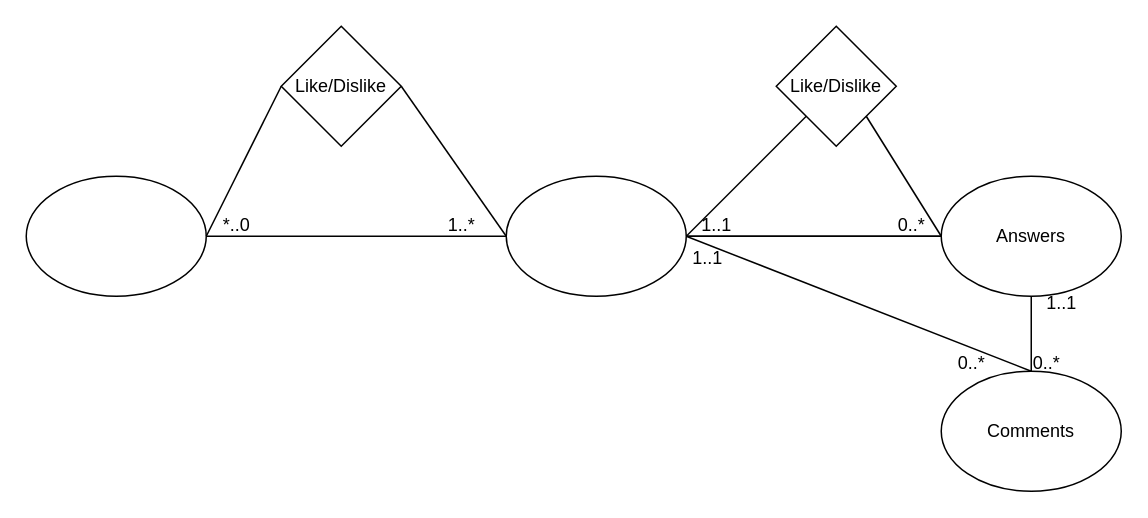
This 1148x518 diagram has some shape labels left out. The box of each missing label's shape, as (x1, y1, x2, y2) in pixels:
Questions: (25, 175, 206, 296)
User: (505, 175, 686, 296)
